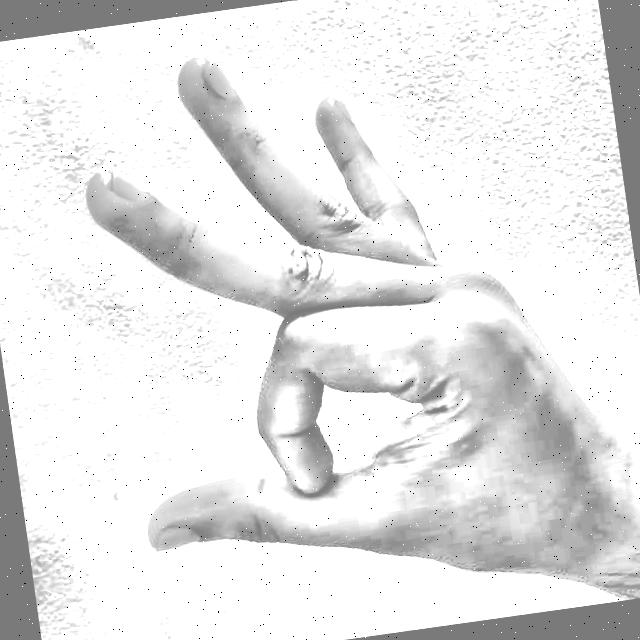Uo: (14, 0, 619, 640)
